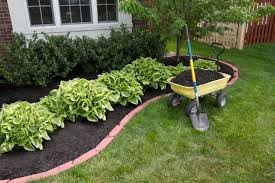dirt: (0, 125, 107, 177), (171, 69, 221, 86), (104, 103, 130, 125)
grass: (96, 131, 271, 181), (231, 48, 272, 131), (134, 100, 186, 129)
